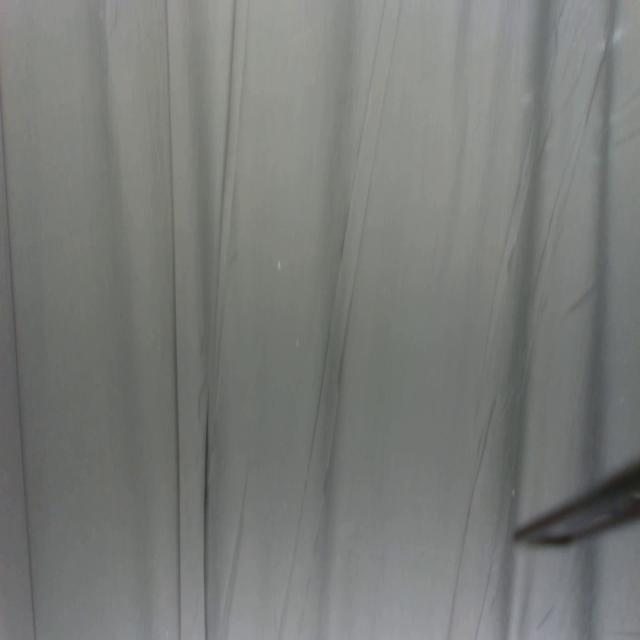crease: (276, 0, 403, 635), (0, 75, 39, 640), (212, 0, 252, 360), (162, 0, 184, 639), (445, 396, 498, 640), (200, 394, 214, 640)
hole: (277, 256, 283, 278), (294, 336, 302, 351), (511, 488, 517, 501)
